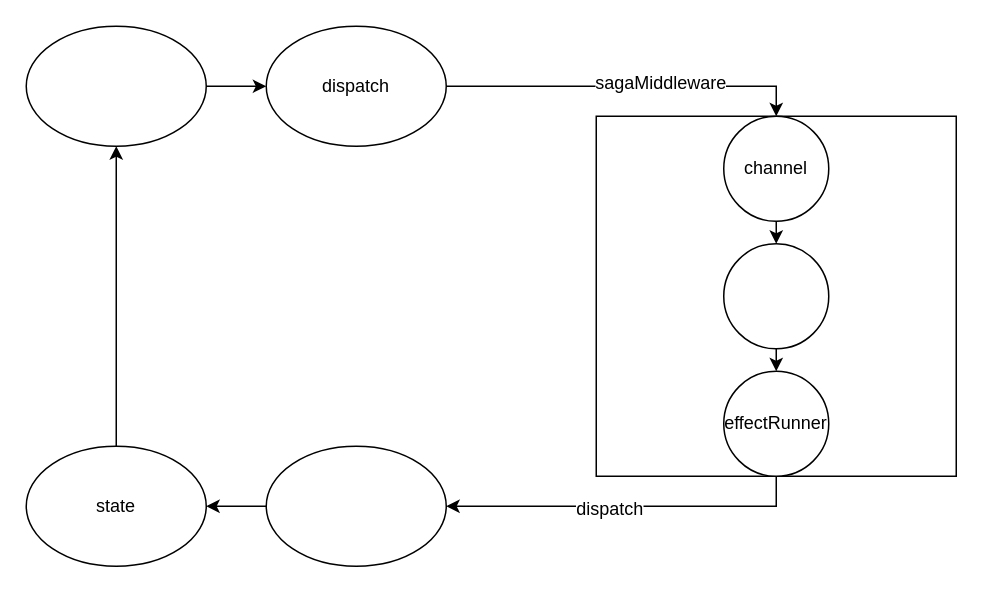
The diagram is 983 pixels wide and 593 high, and some of its shapes have lost their labels. The shapes that lost their labels are listed below. From the top down, each one's box as (x1, y1, x2, y2) in pixels, then its label:
(25, 25, 206, 146): store
(722, 242, 829, 349): proc
(265, 445, 446, 566): reducer
